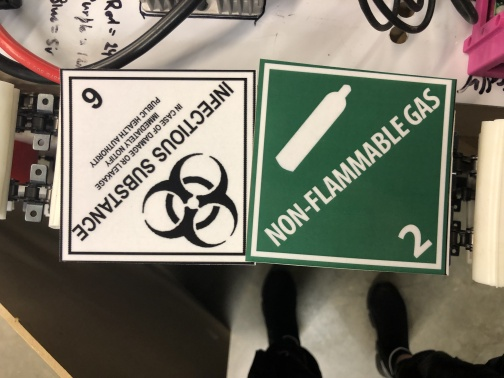InfectiousSubstance: (57, 67, 258, 266)
NonFlammableGas: (245, 57, 458, 277)
